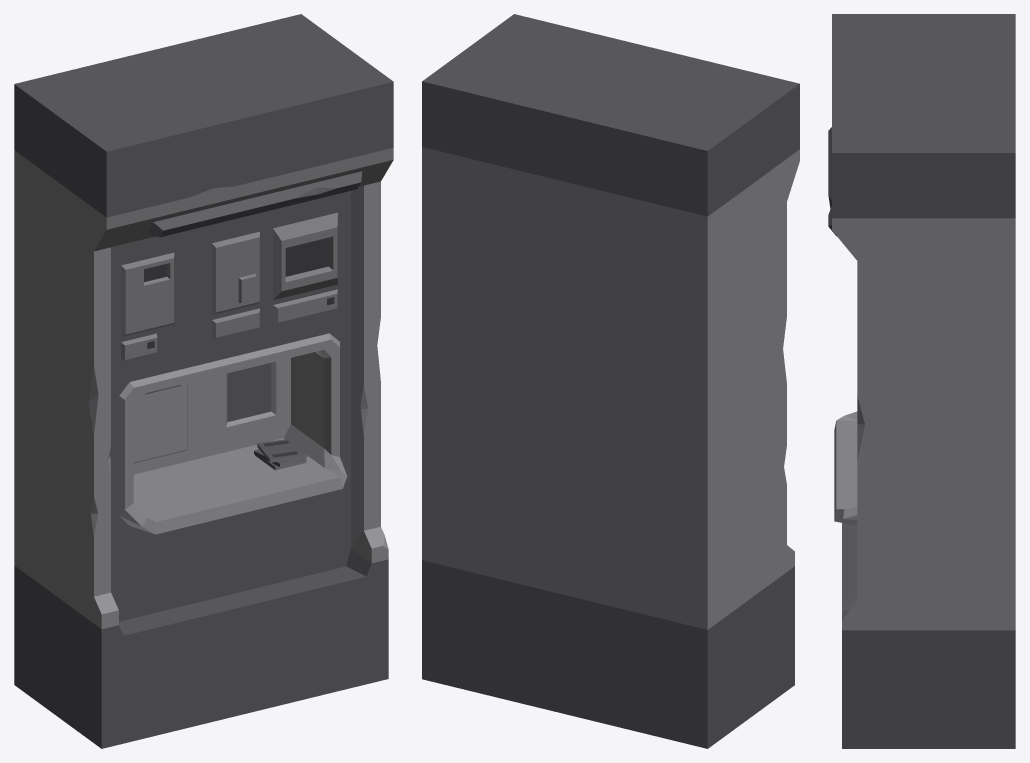
The model's file is SM_Bld_Crew_Desk_01.glb.
3 renders of one model, left to right at view 1: azimuth 30°, elevation 25°; view 2: azimuth 150°, elevation 25°; view 3: azimuth 270°, elevation 25°, orthographic.
Parts seen in each view (by area): view 1: SM_Bld_Crew_Desk_01; view 2: SM_Bld_Crew_Desk_01; view 3: SM_Bld_Crew_Desk_01.
Part boxes in pixels (bbox=[...]): SM_Bld_Crew_Desk_01: bbox=[14, 14, 393, 748]; SM_Bld_Crew_Desk_01: bbox=[422, 14, 799, 748]; SM_Bld_Crew_Desk_01: bbox=[828, 14, 1015, 748].
Bounding box in the file's own units: 2.5 × 5 × 1.42.
2 materials, 2 textured.
